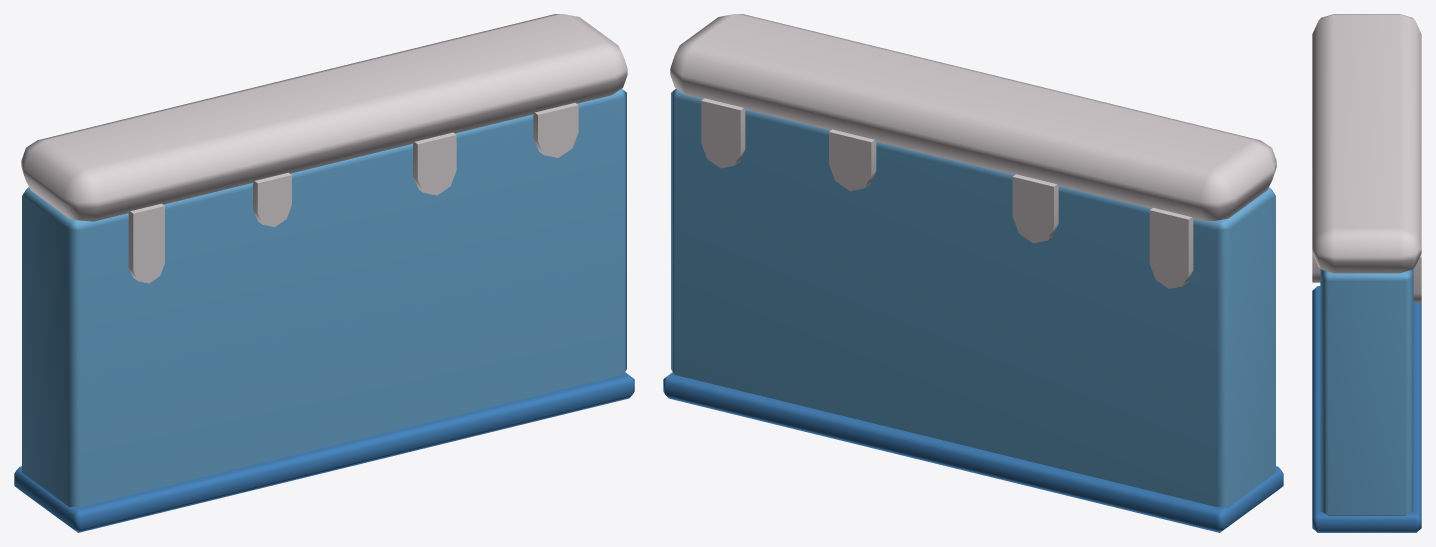
Rendered from candy-wall1.glb.
3 renders of one model, left to right at view 1: azimuth 30°, elevation 25°; view 2: azimuth 150°, elevation 25°; view 3: azimuth 270°, elevation 25°, orthographic. The views are drawn at different scales.
Visible parts, largest first — view 1: candy-wall1; view 2: candy-wall1; view 3: candy-wall1.
Part boxes in pixels (x1,y1,x2,y2): candy-wall1: [14, 14, 634, 532]; candy-wall1: [663, 14, 1283, 532]; candy-wall1: [1312, 14, 1421, 532].
Size of the model in its own units: 2 by 1.2 by 0.4.
